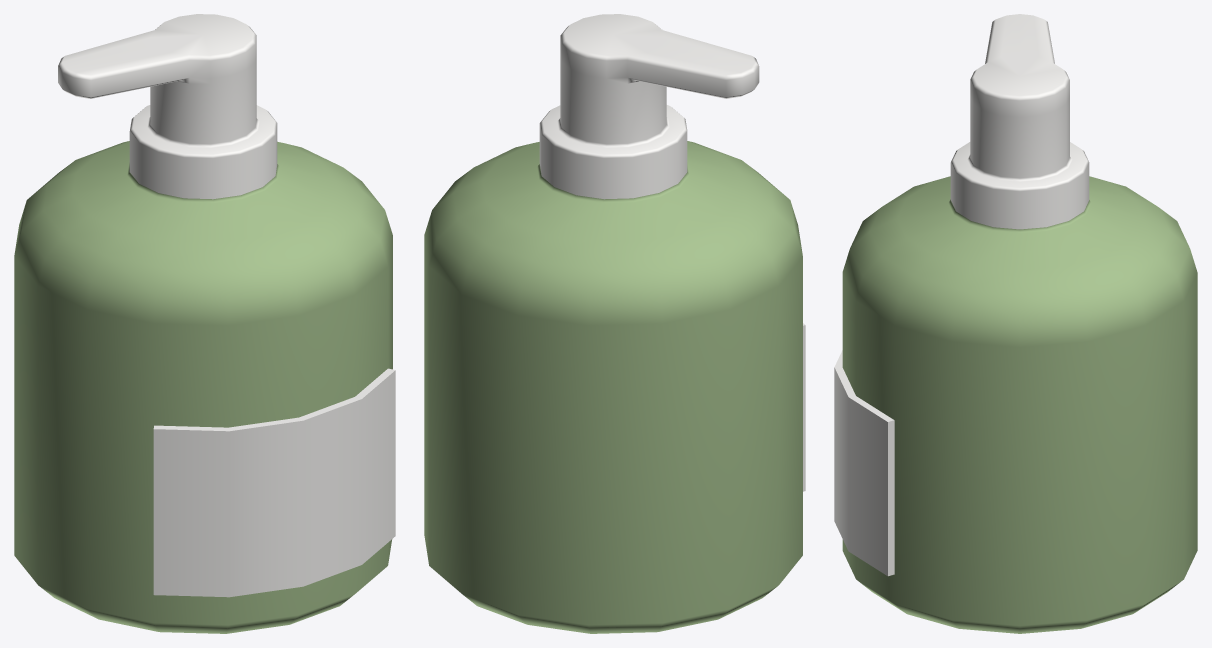
The model's file is Bottle_13.glb.
3 views of the same model, side by side, from view 1: azimuth 30°, elevation 25°; view 2: azimuth 150°, elevation 25°; view 3: azimuth 270°, elevation 25° (orthographic). The views are drawn at different scales.
Visible parts, largest first — view 1: Bottle_13; view 2: Bottle_13; view 3: Bottle_13.
Boxes of the visible parts, x1=… form: Bottle_13: x1=14, y1=14, x2=395, y2=633; Bottle_13: x1=424, y1=14, x2=805, y2=633; Bottle_13: x1=834, y1=14, x2=1197, y2=633.
Bounding box in the file's own units: 0.1511 × 0.2301 × 0.1545.
1 material, 1 textured.
